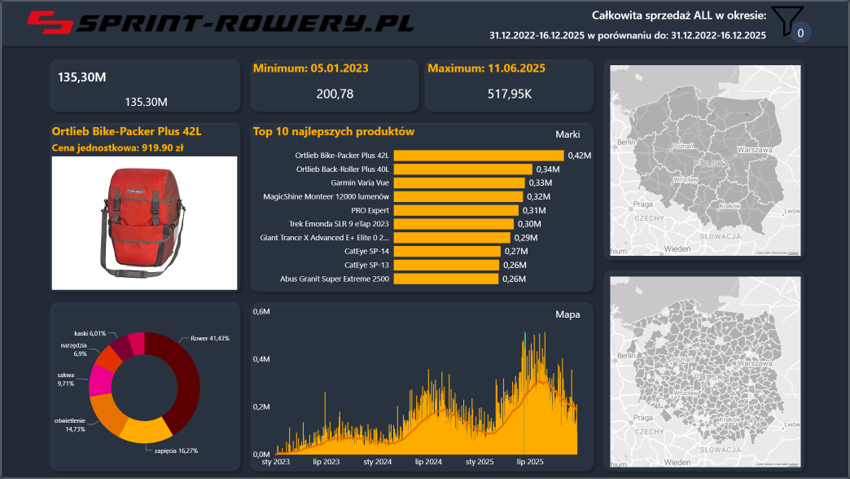

The page's visual inventory and layout, read from the dashboard file:
{"tool":"powerbi","page":{"name":"Sales","canvas":[1600,900],"ordinal":0},"visuals":[{"type":"actionButton","title":"ShowButton","box":[1450,3,70,70],"z":0,"group":"g1"},{"type":"card","title":"Całkowita sprzedaż poprzedni okres","fields":{"Values":["_mesures.selectedLabelPast"]},"box":[90,171,360,40],"z":0,"group":"g2"},{"type":"azureMap","fields":{"Category":["dim_address.Location.powiat"]},"box":[1145,515,370,370],"z":0},{"type":"shape","title":"FilterCount","box":[1490,38,40,40],"z":1000,"group":"g1"},{"type":"cardVisual","fields":{"Data":["_mesures.selectedLimitDate"]},"box":[90,111,360,60],"z":1000,"group":"g2"},{"type":"lineStackedColumnComboChart","fields":{"Category":["dim_date.Date"],"Y":["_mesures.selectedLimitDate"],"Y2":["_mesures.selectedMA_limitDate"]},"box":[470,570,650,320],"z":1000},{"type":"actionButton","title":"mapButton","box":[1020,570,100,40],"z":3000},{"type":"donutChart","fields":{"Category":["dim_products.Product.Category","dim_products.Product.Subcategory","dim_products.Product.Model"],"Y":["_mesures.selectedLimitDate"]},"box":[90,570,360,320],"z":5000},{"type":"azureMap","fields":{"Category":["dim_address.Location.wojewodztwo"]},"box":[1145,116,370,370],"z":6000},{"type":"barChart","title":"Top 10 najlepszych marek","fields":{"Category":["dim_products.Brand"],"Y":["_mesures.selectedLimitDate"]},"box":[470,230,650,320],"z":7000},{"type":"actionButton","title":"productButton","box":[1020,230,100,40],"z":10000},{"type":"cardVisual","fields":{"Data":["_Mesures.bestProduct"]},"box":[90,230,360,320],"z":11000},{"type":"card","fields":{"Values":["_mesures.selectedLimitDate_min"]},"box":[470,111,320,100],"z":12000},{"type":"card","fields":{"Values":["_mesures.selectedLimitDate_max"]},"box":[800,111,320,100],"z":13000},{"type":"cardVisual","fields":{"Data":["_mesures.selectedTitle","_mesures.dateRangeTitle"]},"box":[850,3,600,80],"z":14000},{"type":"group","id":"g1","title":"FilterButton","box":[1450,3,80,75],"z":15000},{"type":"group","id":"g2","title":"KPI","box":[90,111,360,100],"z":17000}]}

Visuals, with their boxes in screenshot pixels (x1, y1, x2, y2), scaled from the page's 1600x900 canvas onto the 850x479 screenshot:
"ShowButton" actionButton: 770,2,808,39
"Całkowita sprzedaż poprzedni okres" card: 48,91,239,112
azureMap - dim_address.Location.powiat: 608,274,805,471
"FilterCount" shape: 792,20,813,42
cardVisual - _mesures.selectedLimitDate: 48,59,239,91
lineStackedColumnComboChart - dim_date.Date x _mesures.selectedLimitDate: 250,303,595,474
"mapButton" actionButton: 542,303,595,325
donutChart - dim_products.Product.Category x dim_products.Product.Subcategory: 48,303,239,474
azureMap - dim_address.Location.wojewodztwo: 608,62,805,259
"Top 10 najlepszych marek" barChart: 250,122,595,293
"productButton" actionButton: 542,122,595,144
cardVisual - _Mesures.bestProduct: 48,122,239,293
card - _mesures.selectedLimitDate_min: 250,59,420,112
card - _mesures.selectedLimitDate_max: 425,59,595,112
cardVisual - _mesures.selectedTitle x _mesures.dateRangeTitle: 452,2,770,44
"FilterButton" group: 770,2,813,42
"KPI" group: 48,59,239,112
